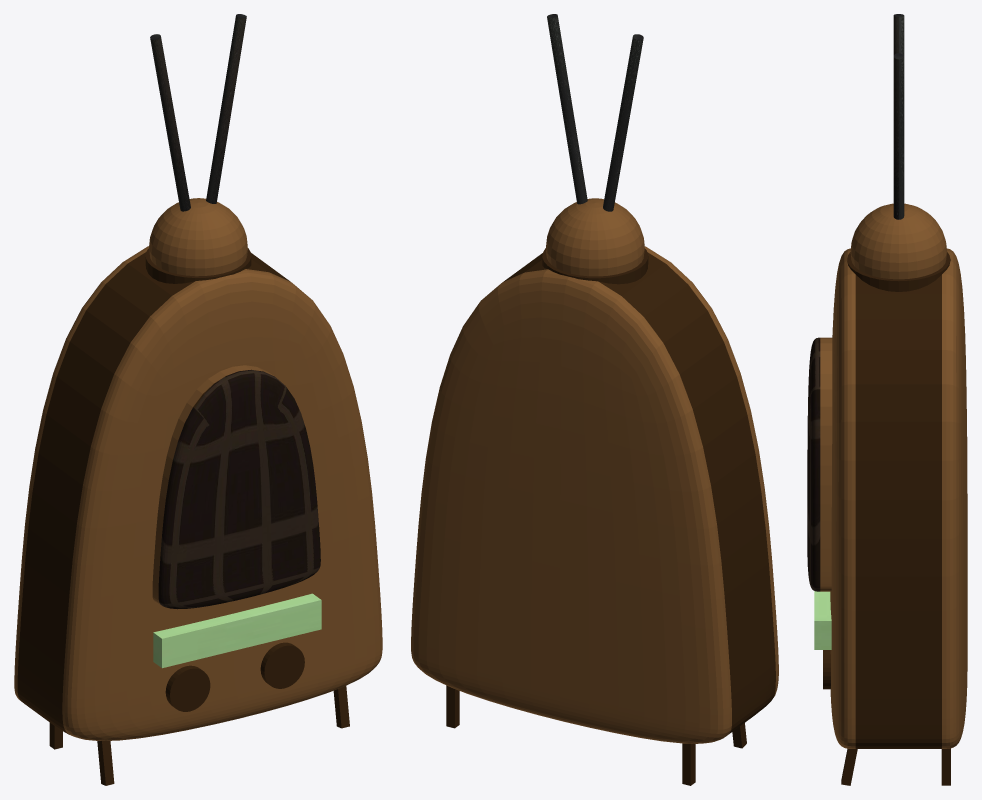
The model's file is tocadiscos.obj.
3 views of the same model, side by side, from view 1: azimuth 30°, elevation 25°; view 2: azimuth 150°, elevation 25°; view 3: azimuth 270°, elevation 25° (orthographic). The views are drawn at different scales.
Parts seen in each view (by area): view 1: Cube.003, Cube.002, Cube.004, Sphere, Cylinder.002, Cylinder.003, Cylinder, Cylinder.001, Cylinder.004; view 2: Cube.003, Sphere, Cylinder.002, Cylinder.003, Cylinder.004; view 3: Cube.003, Cube.002, Sphere, Cylinder.002, Cylinder.004, Cube.004, Cylinder.003, Cube.006, Cube.007, Cylinder.001.
Boxes of the visible parts, x1,y1,x2,y2 form: Cube.003: [14, 246, 382, 740]; Cube.002: [152, 365, 320, 609]; Cube.004: [153, 593, 321, 668]; Sphere: [149, 198, 247, 276]; Cylinder.002: [206, 14, 246, 203]; Cylinder.003: [150, 34, 190, 211]; Cylinder: [165, 665, 210, 711]; Cylinder.001: [260, 642, 304, 688]; Cylinder.004: [145, 248, 251, 283]; Cube.003: [411, 246, 778, 743]; Sphere: [546, 198, 644, 276]; Cylinder.002: [547, 14, 587, 204]; Cylinder.003: [603, 34, 643, 211]; Cylinder.004: [542, 248, 648, 284]; Cube.003: [830, 248, 967, 748]; Cube.002: [807, 337, 832, 591]; Sphere: [850, 203, 946, 279]; Cylinder.002: [893, 53, 904, 219]; Cylinder.004: [847, 252, 950, 291]; Cube.004: [814, 591, 831, 649]; Cylinder.003: [893, 14, 904, 55]; Cube.006: [841, 748, 857, 785]; Cube.007: [941, 748, 950, 785]; Cylinder.001: [823, 650, 830, 689].
Size of the model in its own units: 3.77 by 8.07 by 1.69.
5 materials, 5 textured.
